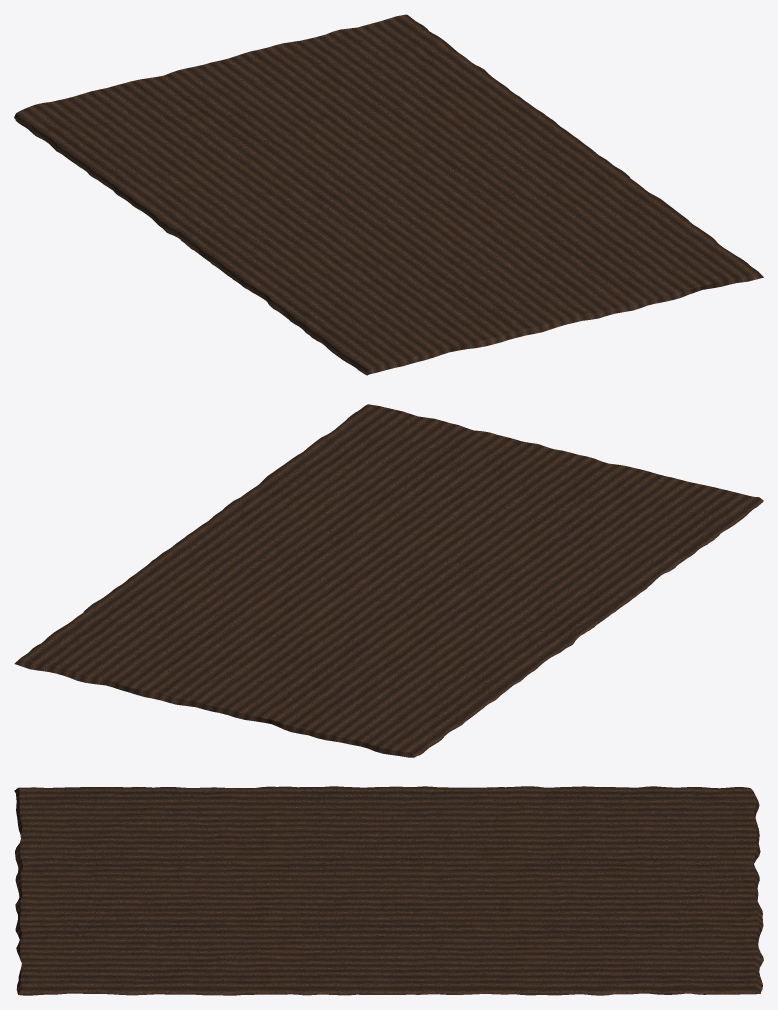
File: TerrenoIA.fbx
3 views of the same model, one above another, from view 1: azimuth 30°, elevation 25°; view 2: azimuth 150°, elevation 25°; view 3: azimuth 270°, elevation 25° (orthographic). The views are drawn at different scales.
Parts seen in each view (by area): view 1: TerrenoIA; view 2: TerrenoIA; view 3: TerrenoIA.
Boxes of the visible parts, bbox=[...] form: TerrenoIA: bbox=[14, 14, 763, 375]; TerrenoIA: bbox=[14, 404, 763, 757]; TerrenoIA: bbox=[14, 786, 763, 995].
Size of the model in its own units: 5008 by 77.44 by 7700.
